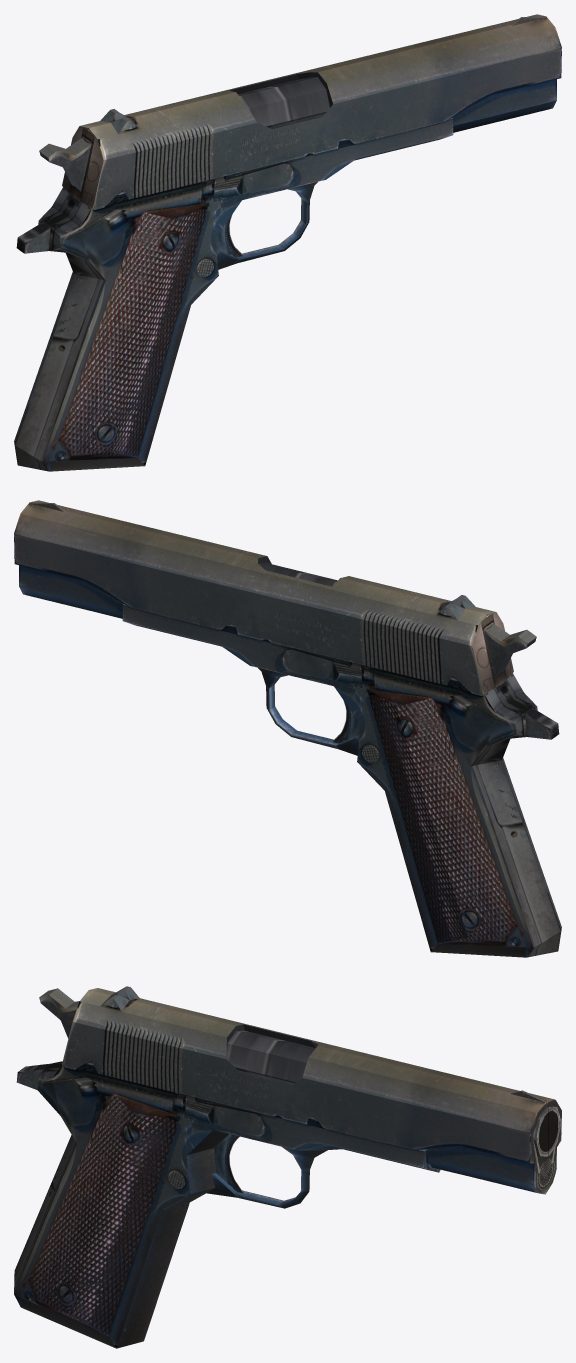
File: gun.glb
The picture shows the model from 3 angles, top to bottom: view 1: azimuth 30°, elevation 25°; view 2: azimuth 150°, elevation 25°; view 3: azimuth 330°, elevation 25°; orthographic projection.
Parts seen in each view (by area): view 1: 1911_Body, 1911_Slide, 1911_Hammer; view 2: 1911_Body, 1911_Slide, 1911_Hammer; view 3: 1911_Body, 1911_Slide, 1911_Hammer, 1911_Trigger.
Part boxes in pixels (<box>): 1911_Body: <box>14,77,453,471</box>; 1911_Slide: <box>62,14,561,208</box>; 1911_Hammer: <box>39,138,91,191</box>; 1911_Body: <box>122,563,561,957</box>; 1911_Slide: <box>14,500,513,694</box>; 1911_Hammer: <box>484,624,536,677</box>; 1911_Body: <box>14,1030,561,1348</box>; 1911_Slide: <box>62,986,561,1194</box>; 1911_Hammer: <box>39,988,79,1038</box>; 1911_Trigger: <box>214,1134,243,1193</box>.
Bounding box in the file's own units: 2.47 × 1.53 × 0.3399.
Materials: 5 (5 with a texture image).
